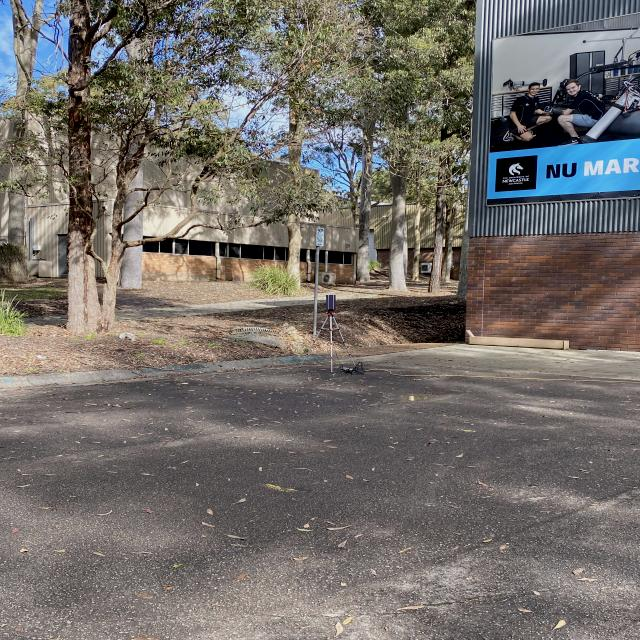matrix: (325, 294, 336, 310)
